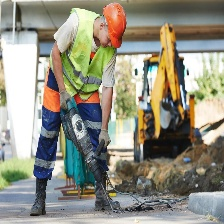helmet: (103, 5, 128, 50)
person: (45, 2, 128, 201)
vest: (69, 18, 114, 115)
